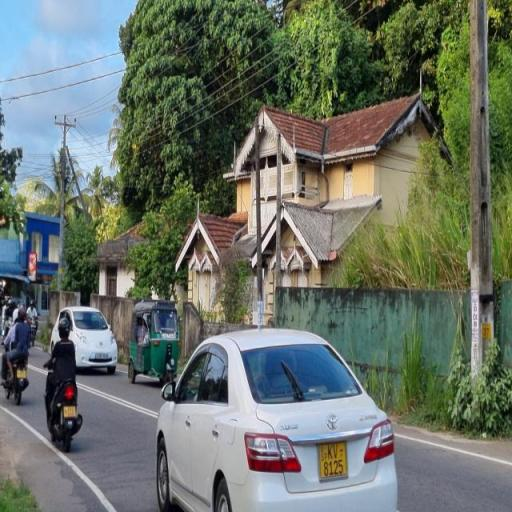double_white_line: (0, 405, 115, 511)
